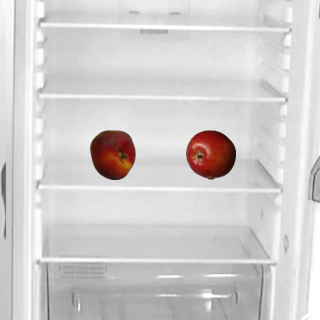Apple Braeburn: (185, 129, 235, 179)
Nectarine Flat: (87, 129, 137, 179)
